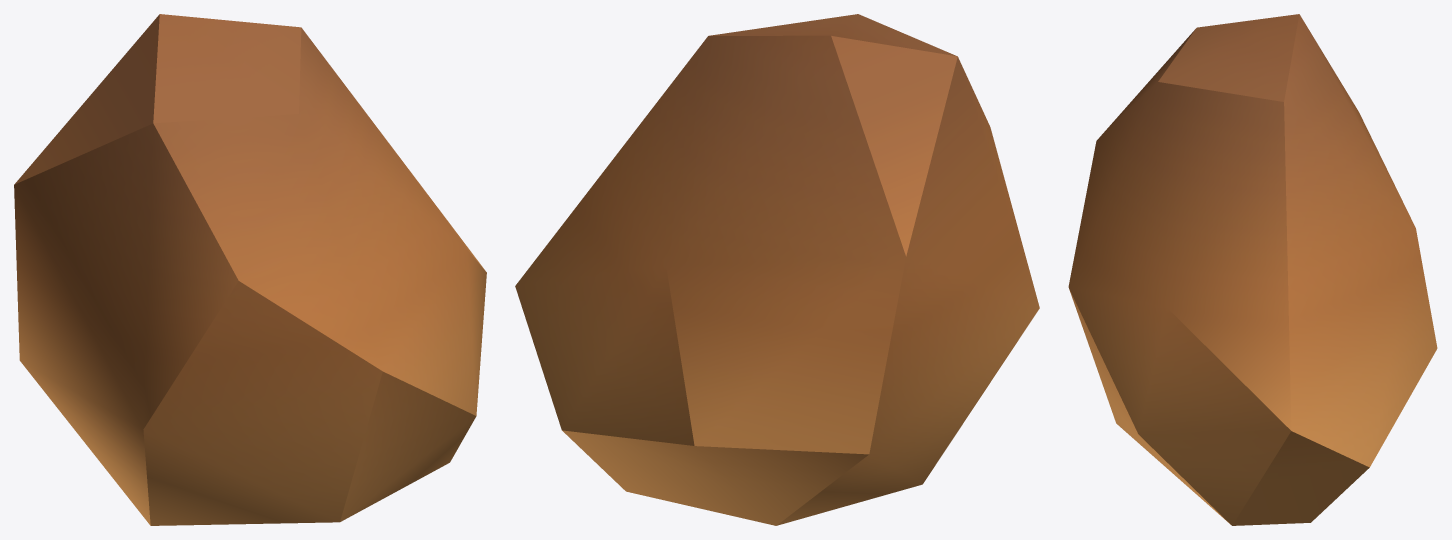
The model's file is GoldNugget2.fbx.
3 views of the same model, side by side, from view 1: azimuth 30°, elevation 25°; view 2: azimuth 150°, elevation 25°; view 3: azimuth 270°, elevation 25° (orthographic). The views are drawn at different scales.
Visible parts, largest first — view 1: GoldNugget2_LOD0; view 2: GoldNugget2_LOD0; view 3: GoldNugget2_LOD0.
Boxes of the visible parts, <box> form: GoldNugget2_LOD0: <box>14,14,486,525</box>; GoldNugget2_LOD0: <box>515,14,1039,525</box>; GoldNugget2_LOD0: <box>1068,14,1437,525</box>.
Size of what is drawn, in the model's own units: 0.5817 by 0.6407 by 0.5027.
